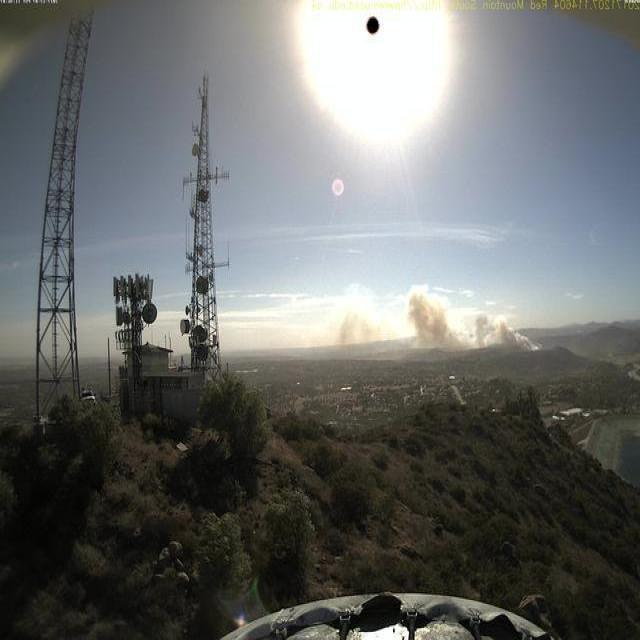smoke: (319, 278, 548, 350)
